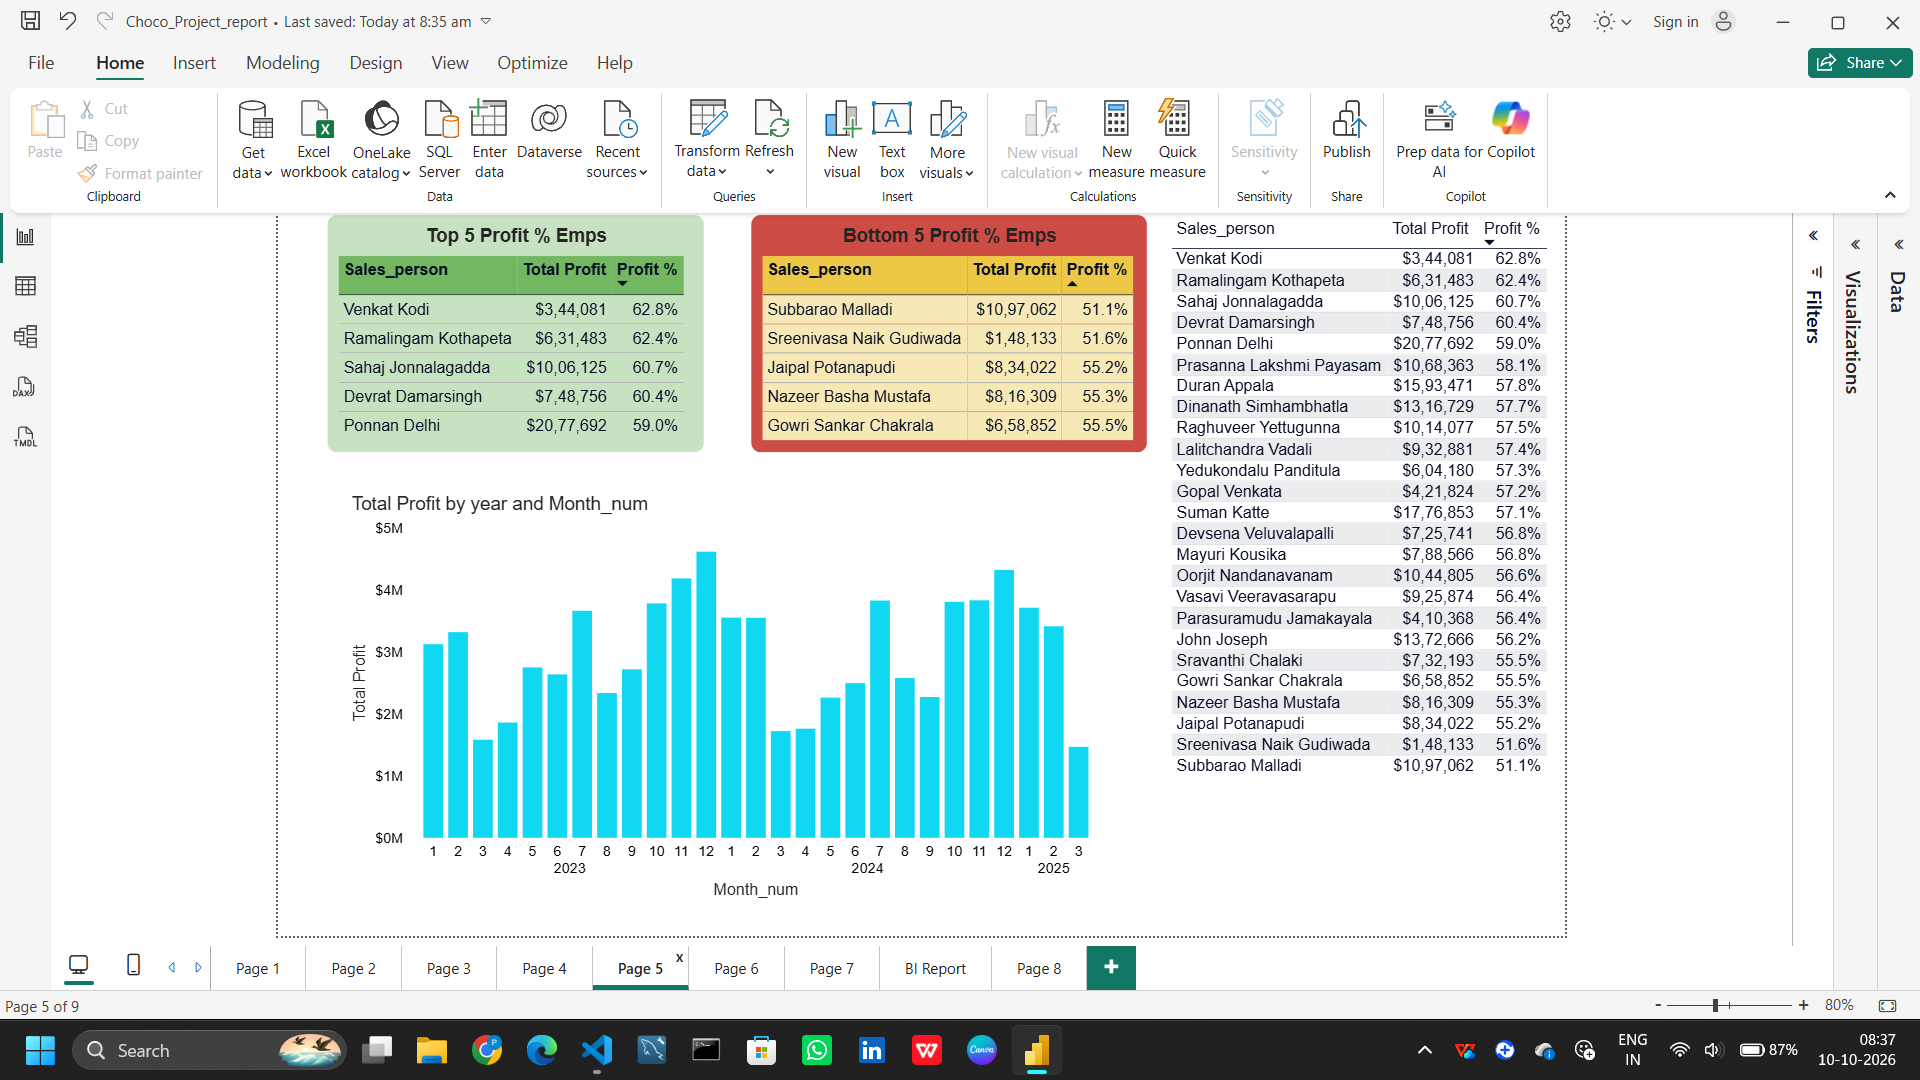

Layout of this report page (visuals, bound fields, positions):
{"tool":"powerbi","page":{"name":"Page 5","canvas":[1280,720],"ordinal":4},"visuals":[{"type":"tableEx","title":"Top 5 Profit % Emps","fields":{"Values":["people.Sales_person","shipments.Total Profit","shipments.Profit %"]},"box":[48,1.4,376,237.4],"z":0},{"type":"clusteredColumnChart","fields":{"Category":["calendar.year","calendar.Month_num"],"Y":["shipments.Total Profit"]},"box":[68.6,278.6,753.3,408.9],"z":1000},{"type":"tableEx","fields":{"Values":["people.Sales_person","shipments.Total Profit","shipments.Profit %"]},"box":[883.7,0,396.6,714.9],"z":2000},{"type":"tableEx","title":"Bottom 5 Profit % Emps","fields":{"Values":["people.Sales_person","shipments.Total Profit","shipments.Profit %"]},"box":[470.7,1.4,395.2,237.4],"z":3000}]}

Visuals, with their boxes on the page's 1280x720 design canvas (x1, y1, x2, y2). These are canvas units, not pixel positions in the 1920x1080 screenshot, which may show the page scaled, cropped or inside an application window:
"Top 5 Profit % Emps" tableEx: <bbox>48, 1, 424, 239</bbox>
clusteredColumnChart - calendar.year x calendar.Month_num: <bbox>69, 279, 822, 688</bbox>
tableEx - people.Sales_person x shipments.Total Profit: <bbox>884, 0, 1280, 715</bbox>
"Bottom 5 Profit % Emps" tableEx: <bbox>471, 1, 866, 239</bbox>
